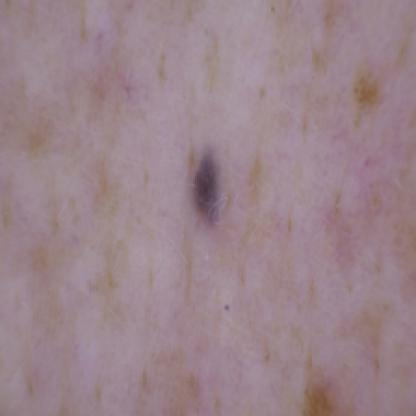benign: (178, 137, 244, 223)
